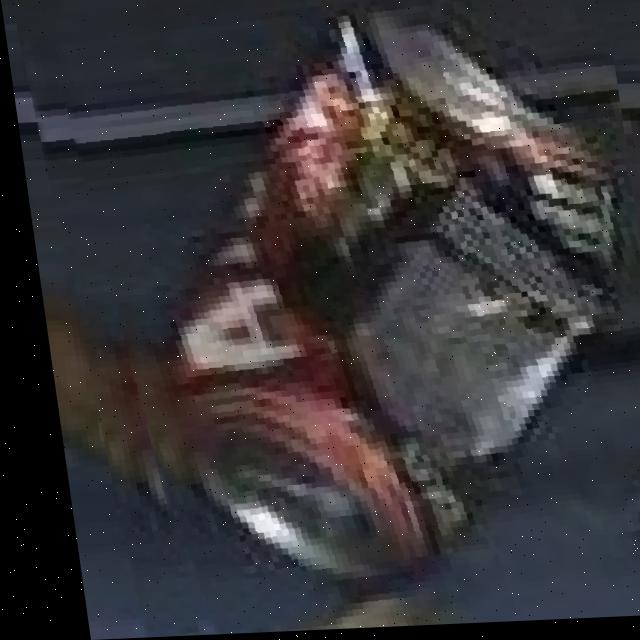can: (118, 0, 627, 630)
